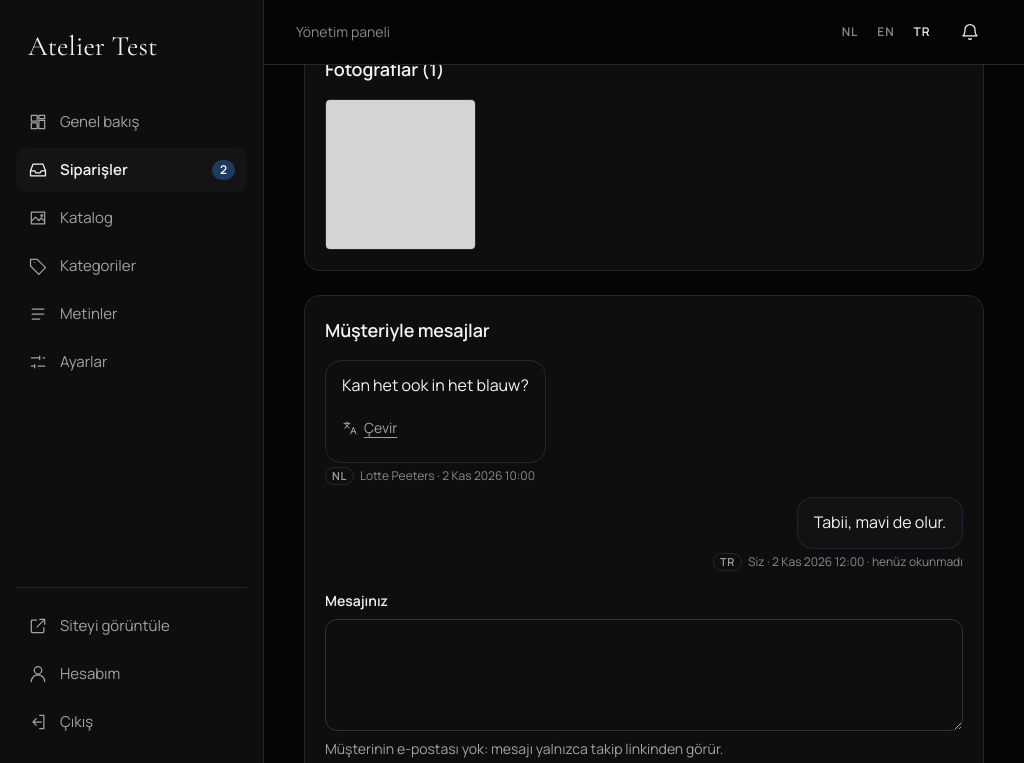
Test: order detail › explains a failed translation and keeps the original
(page scrolled)
Click the button "Çevir".
click(370, 428)  # box [342,406,397,450]
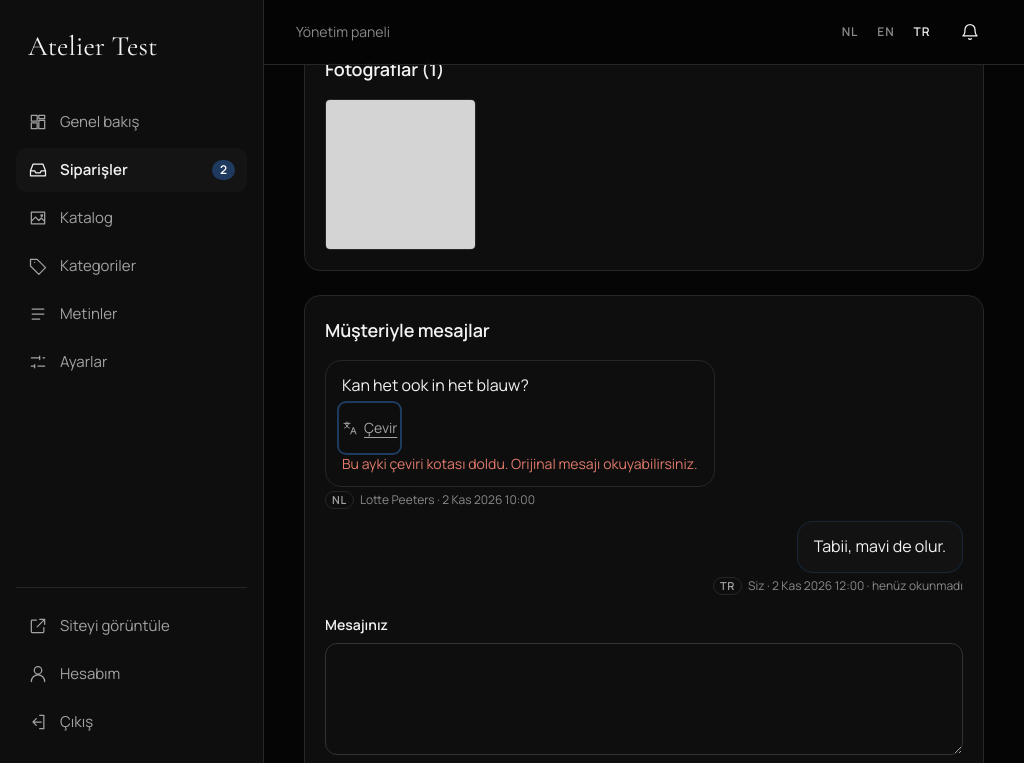
Expected: the text "Kan het ook in het blauw?" is shown, [342,374,529,396]
Now the message reads "Bu ayki çeviri kotası doldu. Orijinal mesajı okuyabilirsiniz.", box [342,454,698,473]
